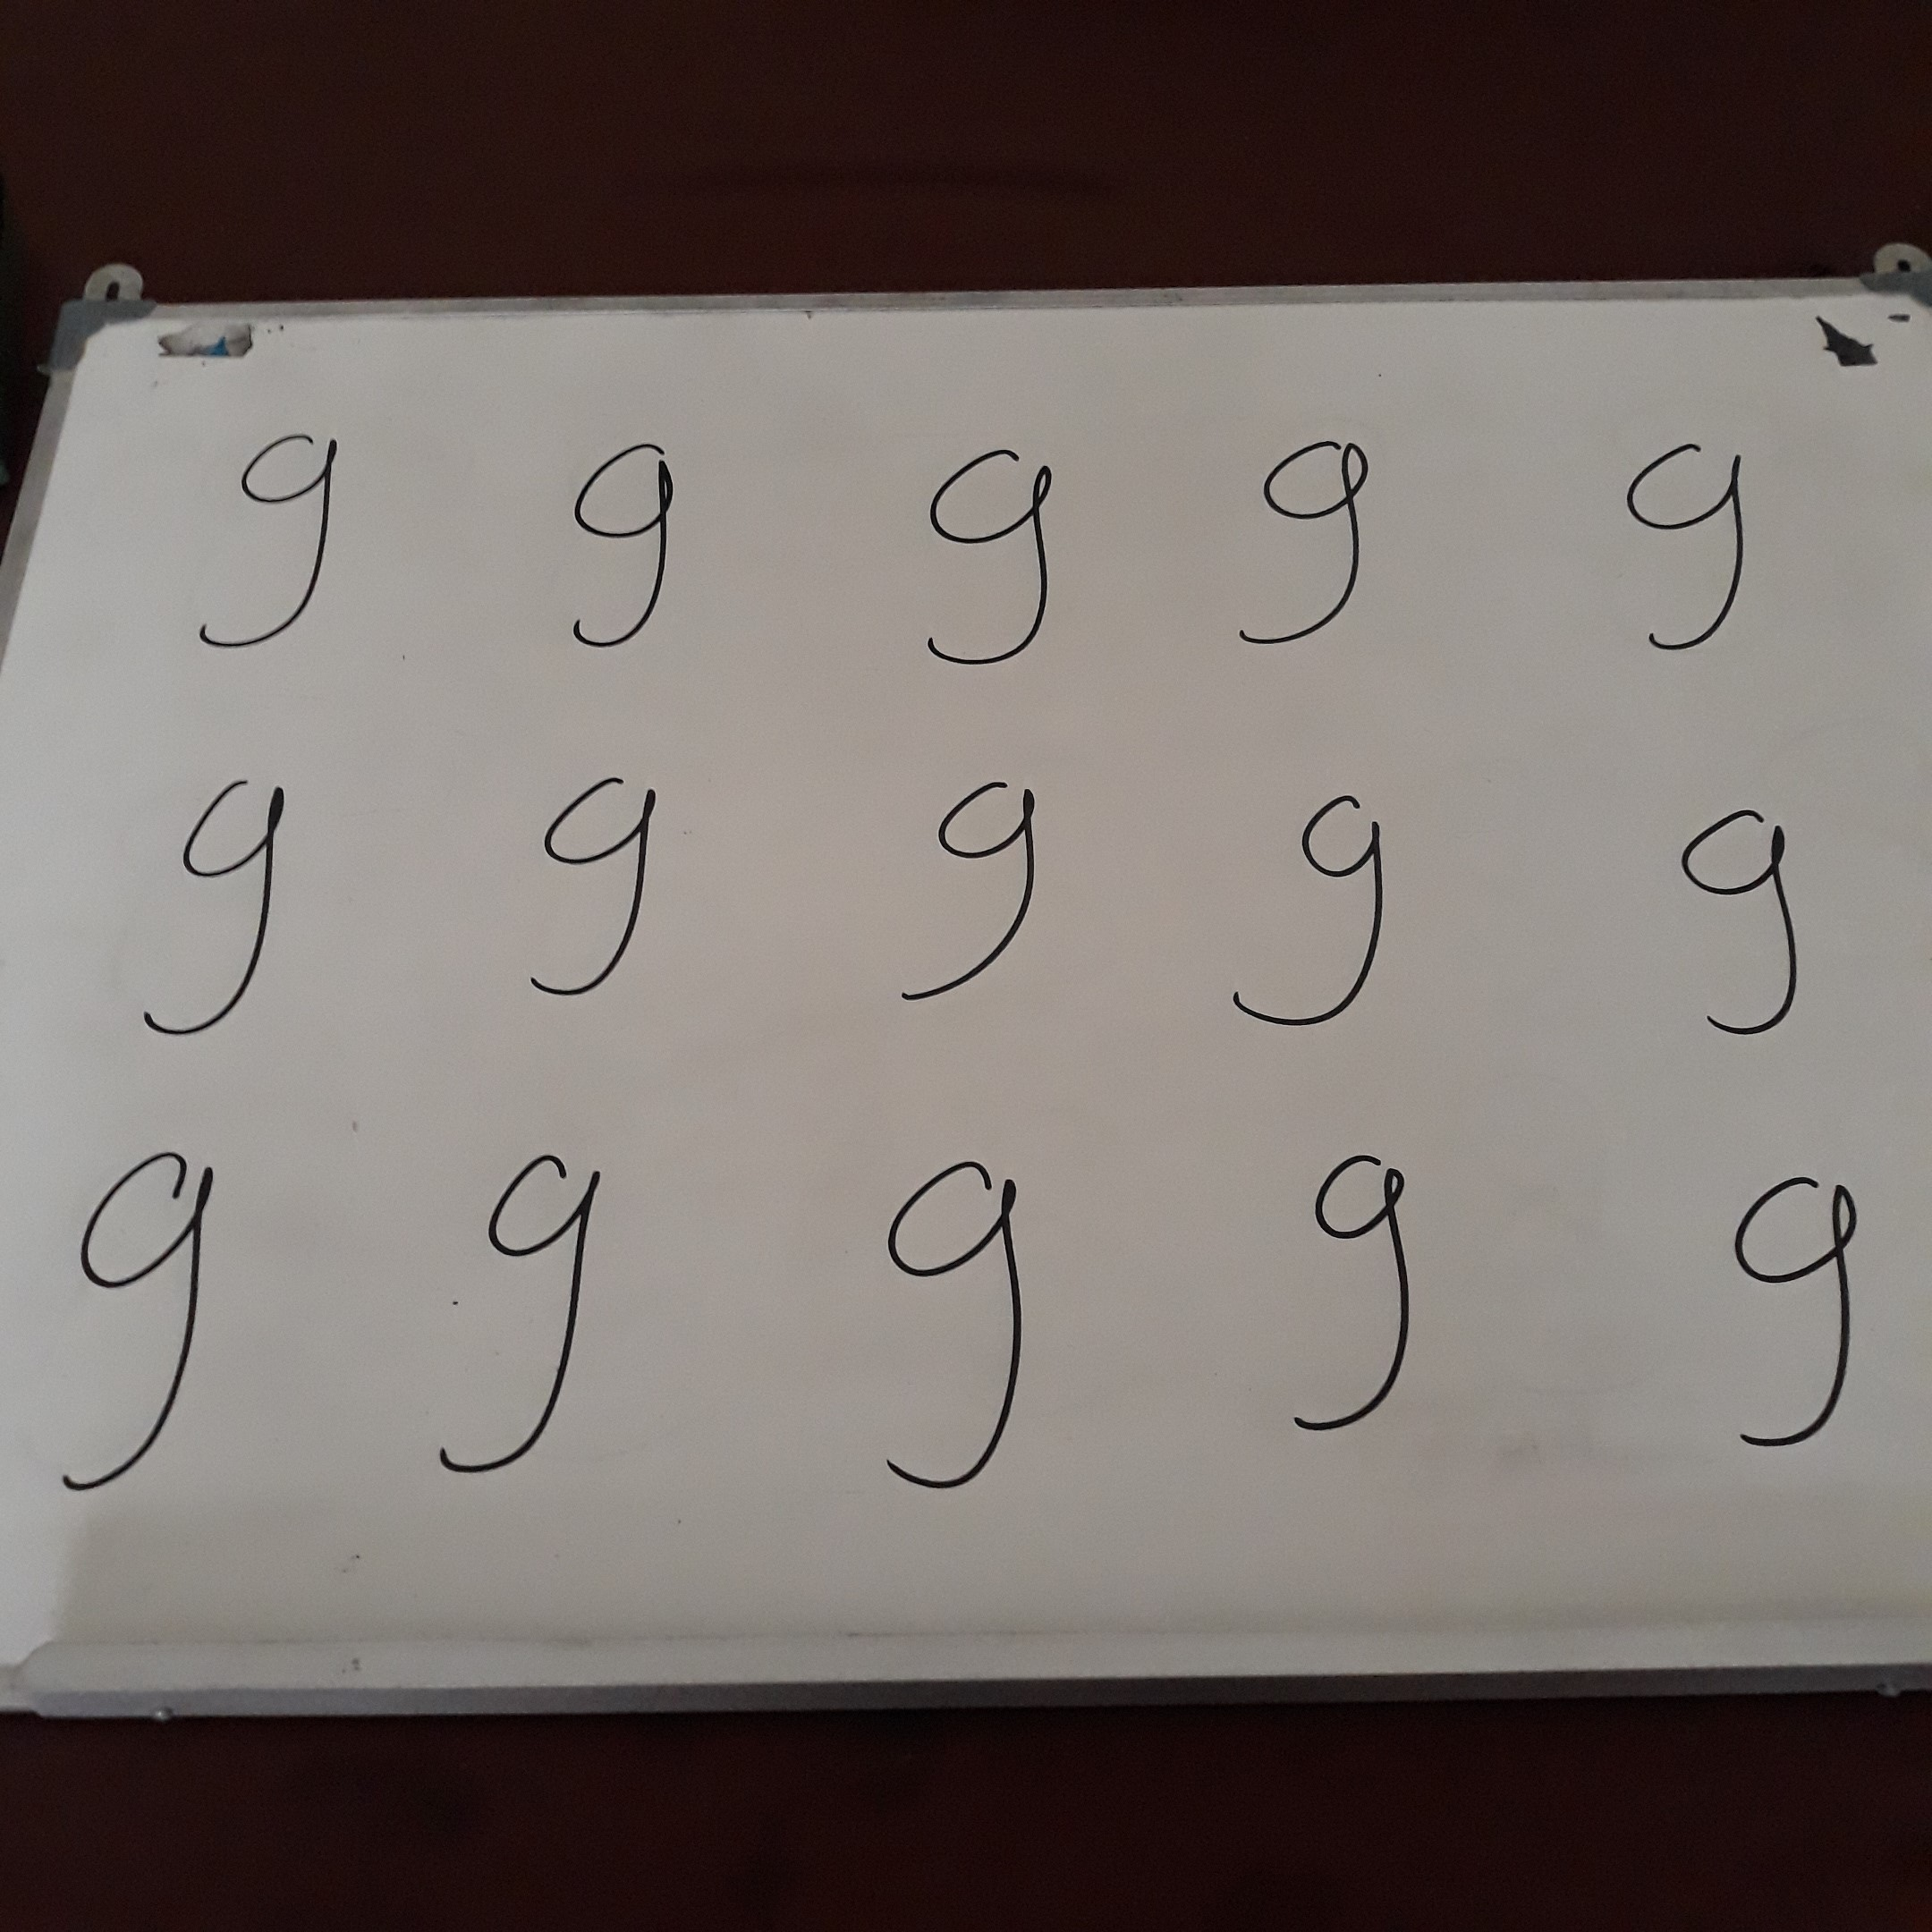num9: (401, 1114, 673, 1503), (813, 1155, 1094, 1506), (1644, 1141, 1911, 1499), (32, 1121, 254, 1504), (1247, 1117, 1478, 1465), (1202, 763, 1460, 1065), (528, 405, 757, 722), (877, 420, 1111, 699), (1199, 403, 1439, 670), (168, 403, 397, 682), (127, 761, 351, 1043), (874, 746, 1085, 1037), (1648, 797, 1852, 1074), (507, 756, 705, 1030), (1584, 428, 1802, 672)
